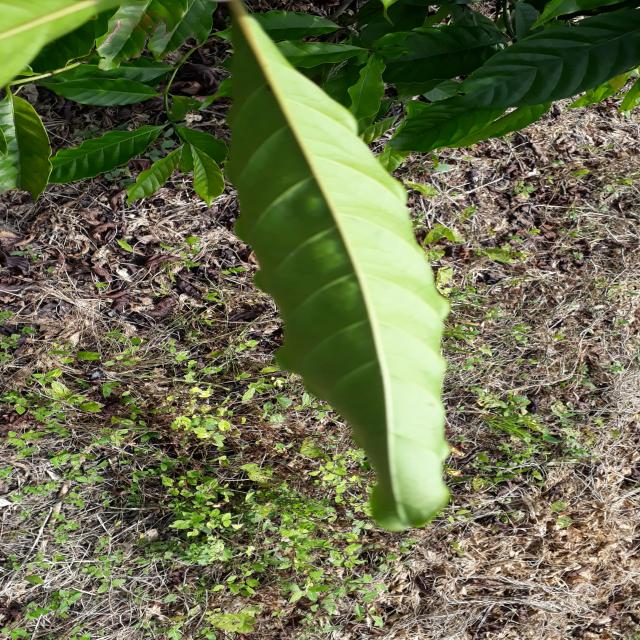Sanas: (222, 0, 450, 535)
